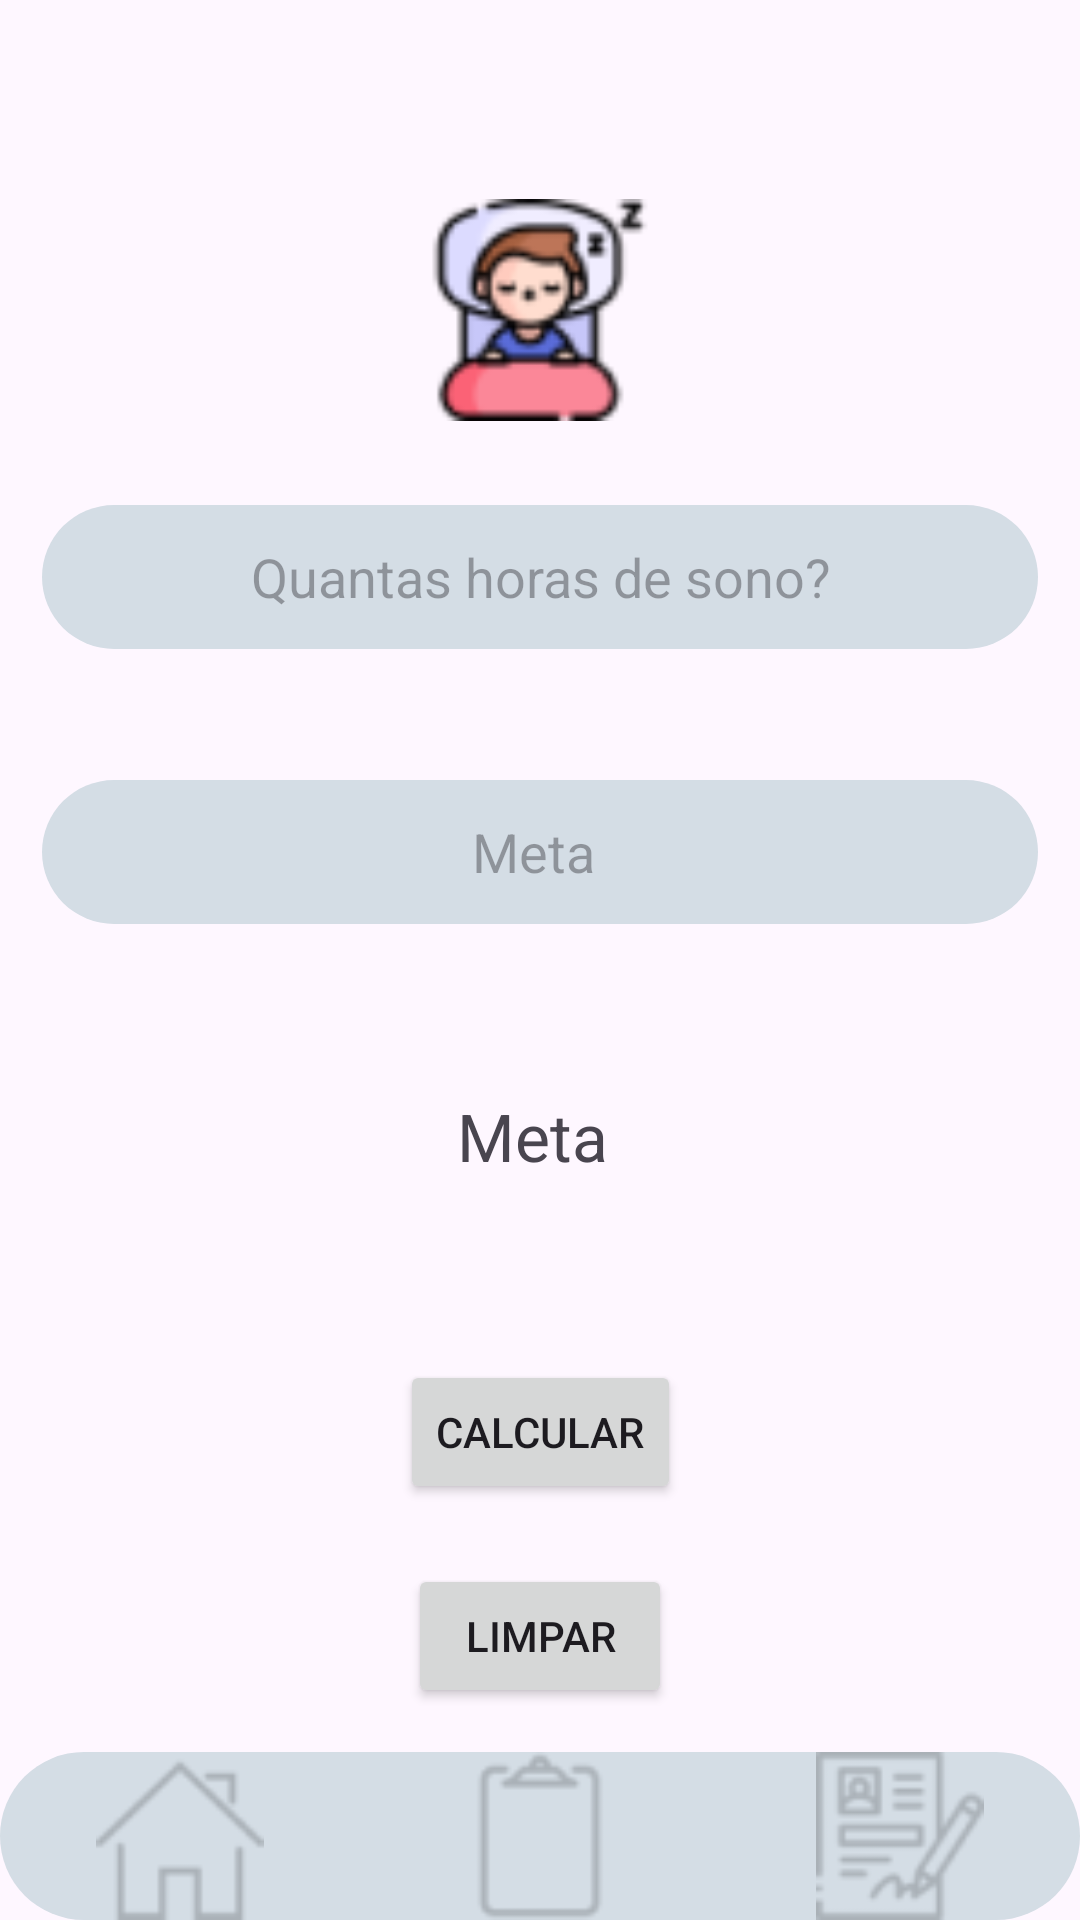

Icon bounding boxes for this 1080px×1920px phone screenshot, format BBox(x1, y1, x2, y2):
Atividades: BBox(481, 1756, 599, 1916)
Início: BBox(0, 1752, 360, 1920)
Perfil: BBox(720, 1752, 1080, 1920)
sleep: BBox(433, 199, 645, 421)
